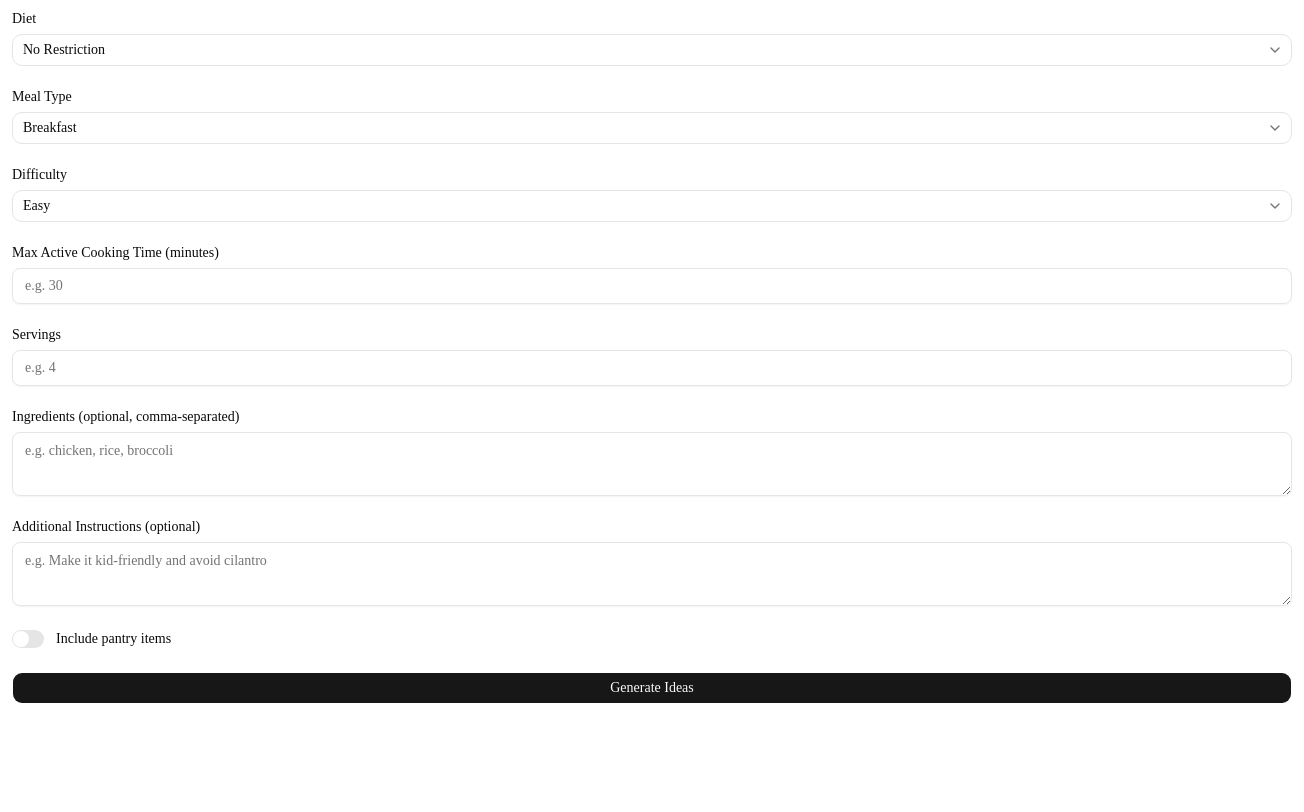
Test: ConstraintForm › rejects negative servings on submit
The width and height of the screenshot is (1304, 812).
In the number field labelled "Max Active Cooking Time (minutes)": (652, 286) [12, 268, 1292, 304], type "30"
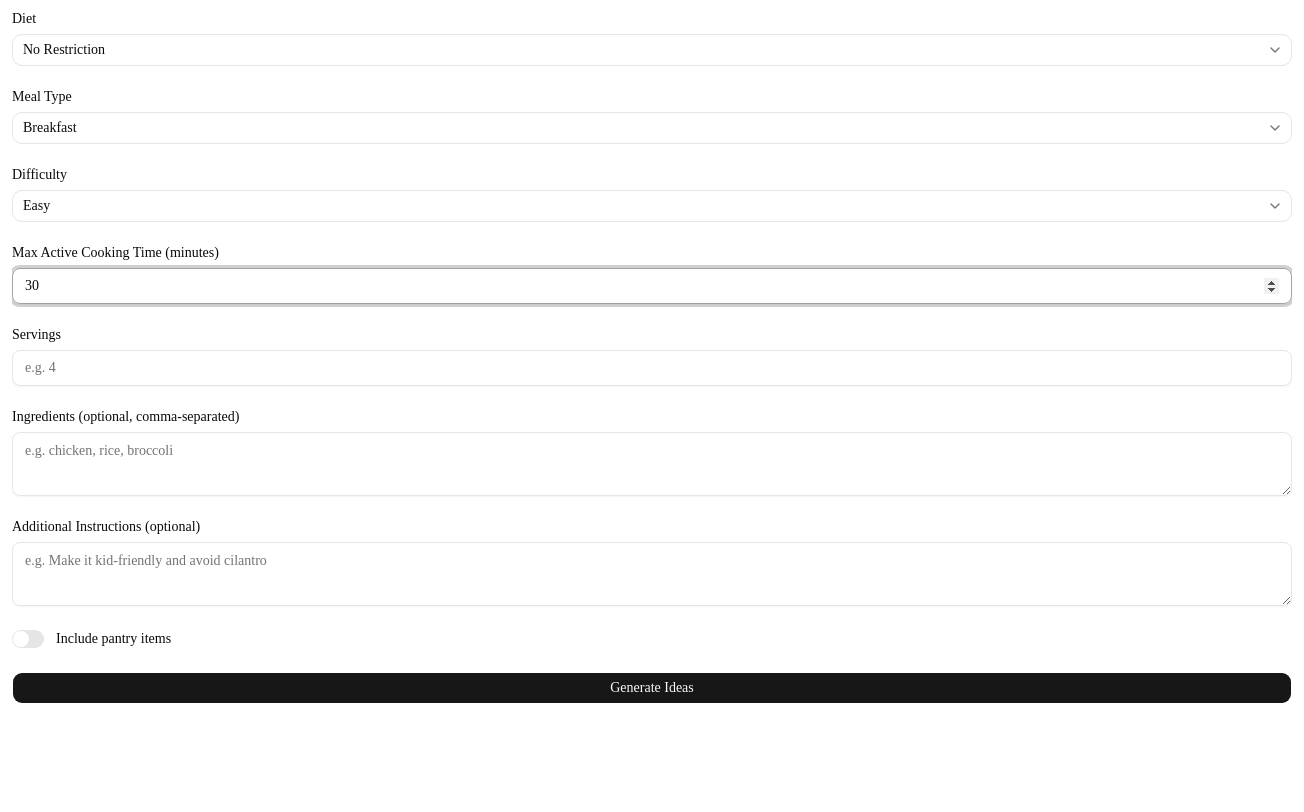
In the number field labelled "Servings": (652, 368) [12, 350, 1292, 386], type "-2"
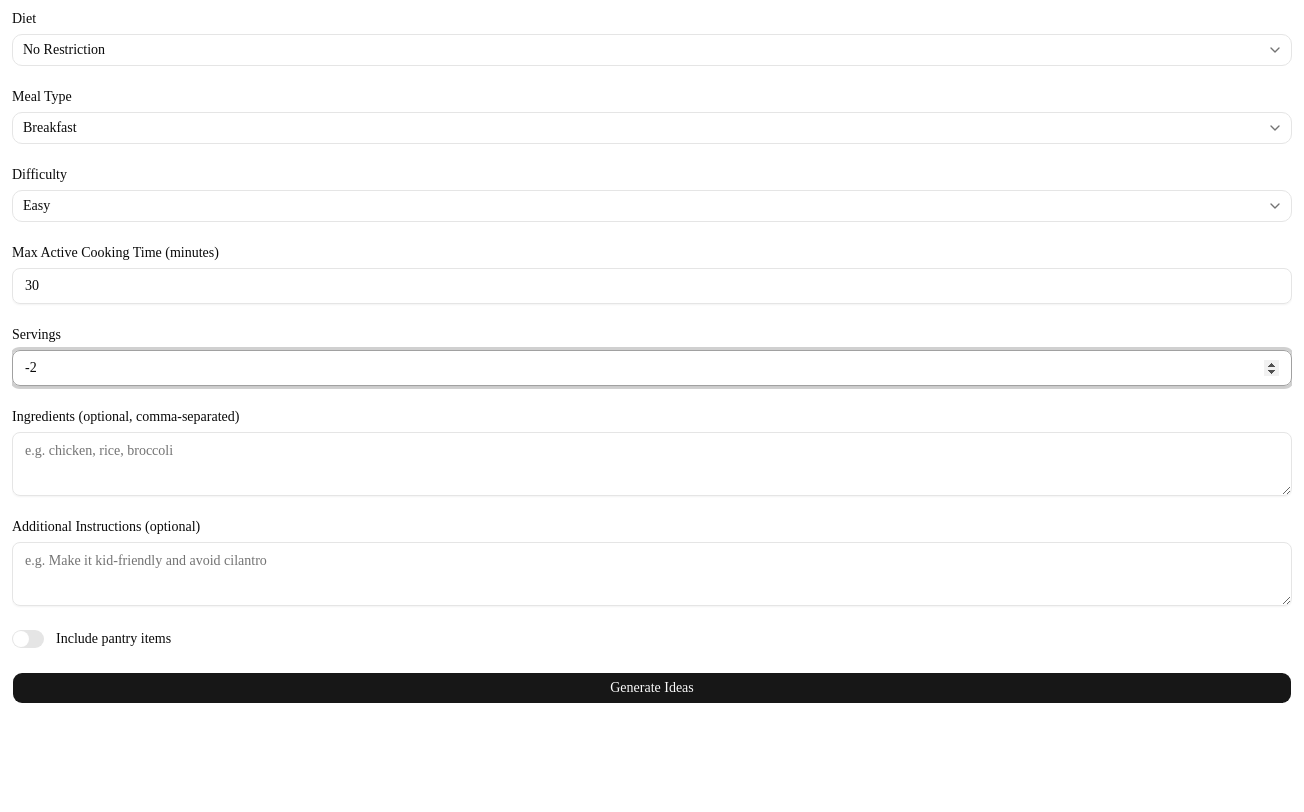
Click the button "Generate Ideas": click(652, 688) [12, 672, 1292, 704]
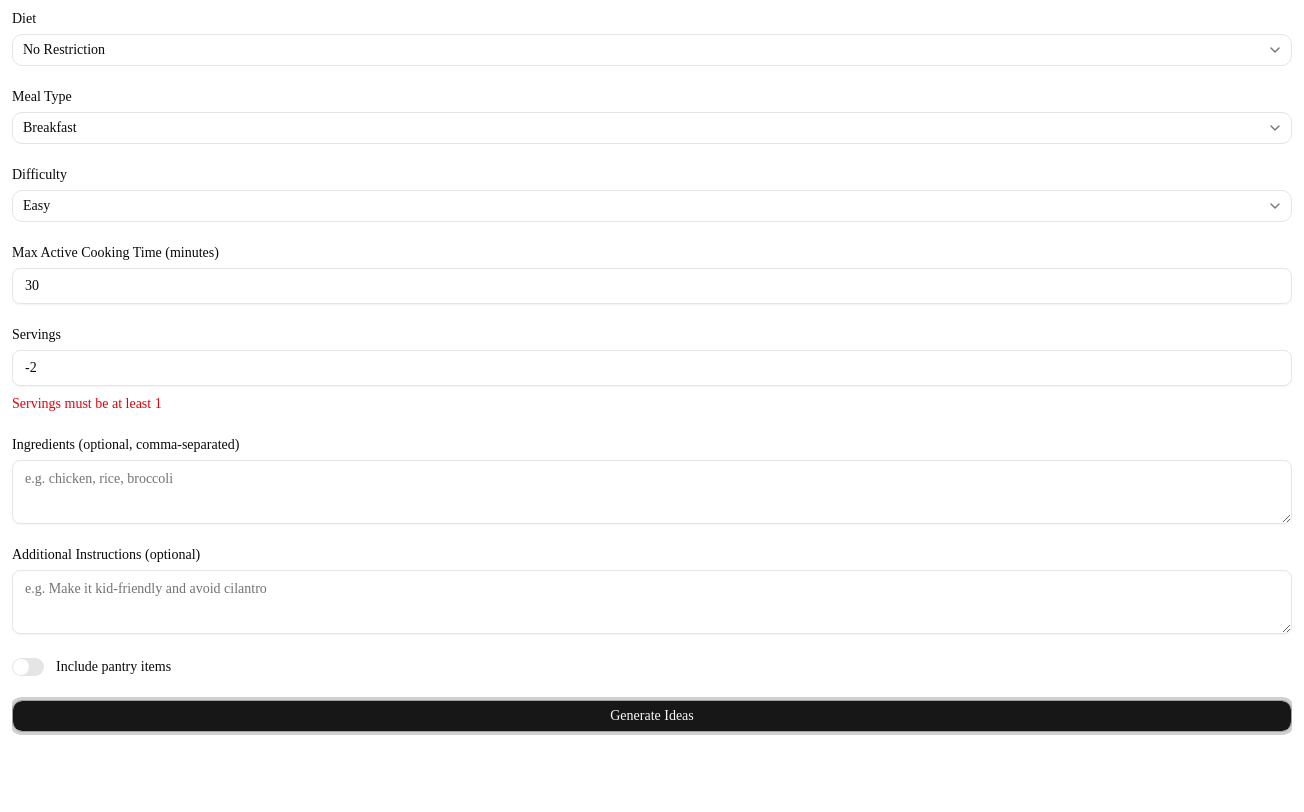
Expected: the text "Servings must be at least 1" is shown, [12, 396, 162, 411]
